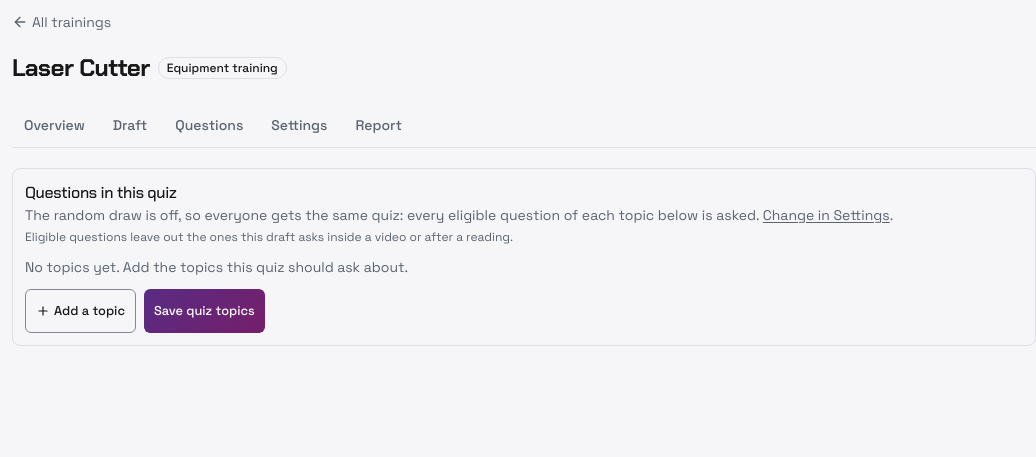
Test: BlueprintEditor › says everyone gets the same quiz when the random draw is off, and fixes the count
This screenshot has width=1036, height=457.
Expected: the heading "Laser Cutter" is shown, [12,52,150,84]
Click the button "Add a topic".
click(80, 311)  # box [25,289,136,333]
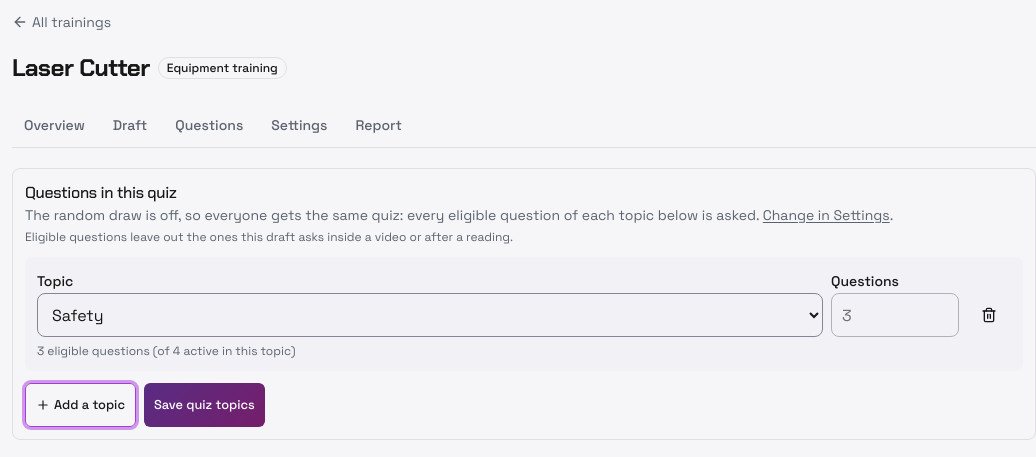
Expected: the text "random draw is off, so everyone gets the same quiz" is shown, [25,206,759,224]
Now the field labelled "Questions" is disabled, box [831,293,959,337]
Now the field labelled "Questions" holds "3", box [831,293,959,337]
